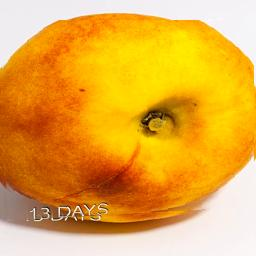Peach Semifresh: (0, 20, 254, 221)
